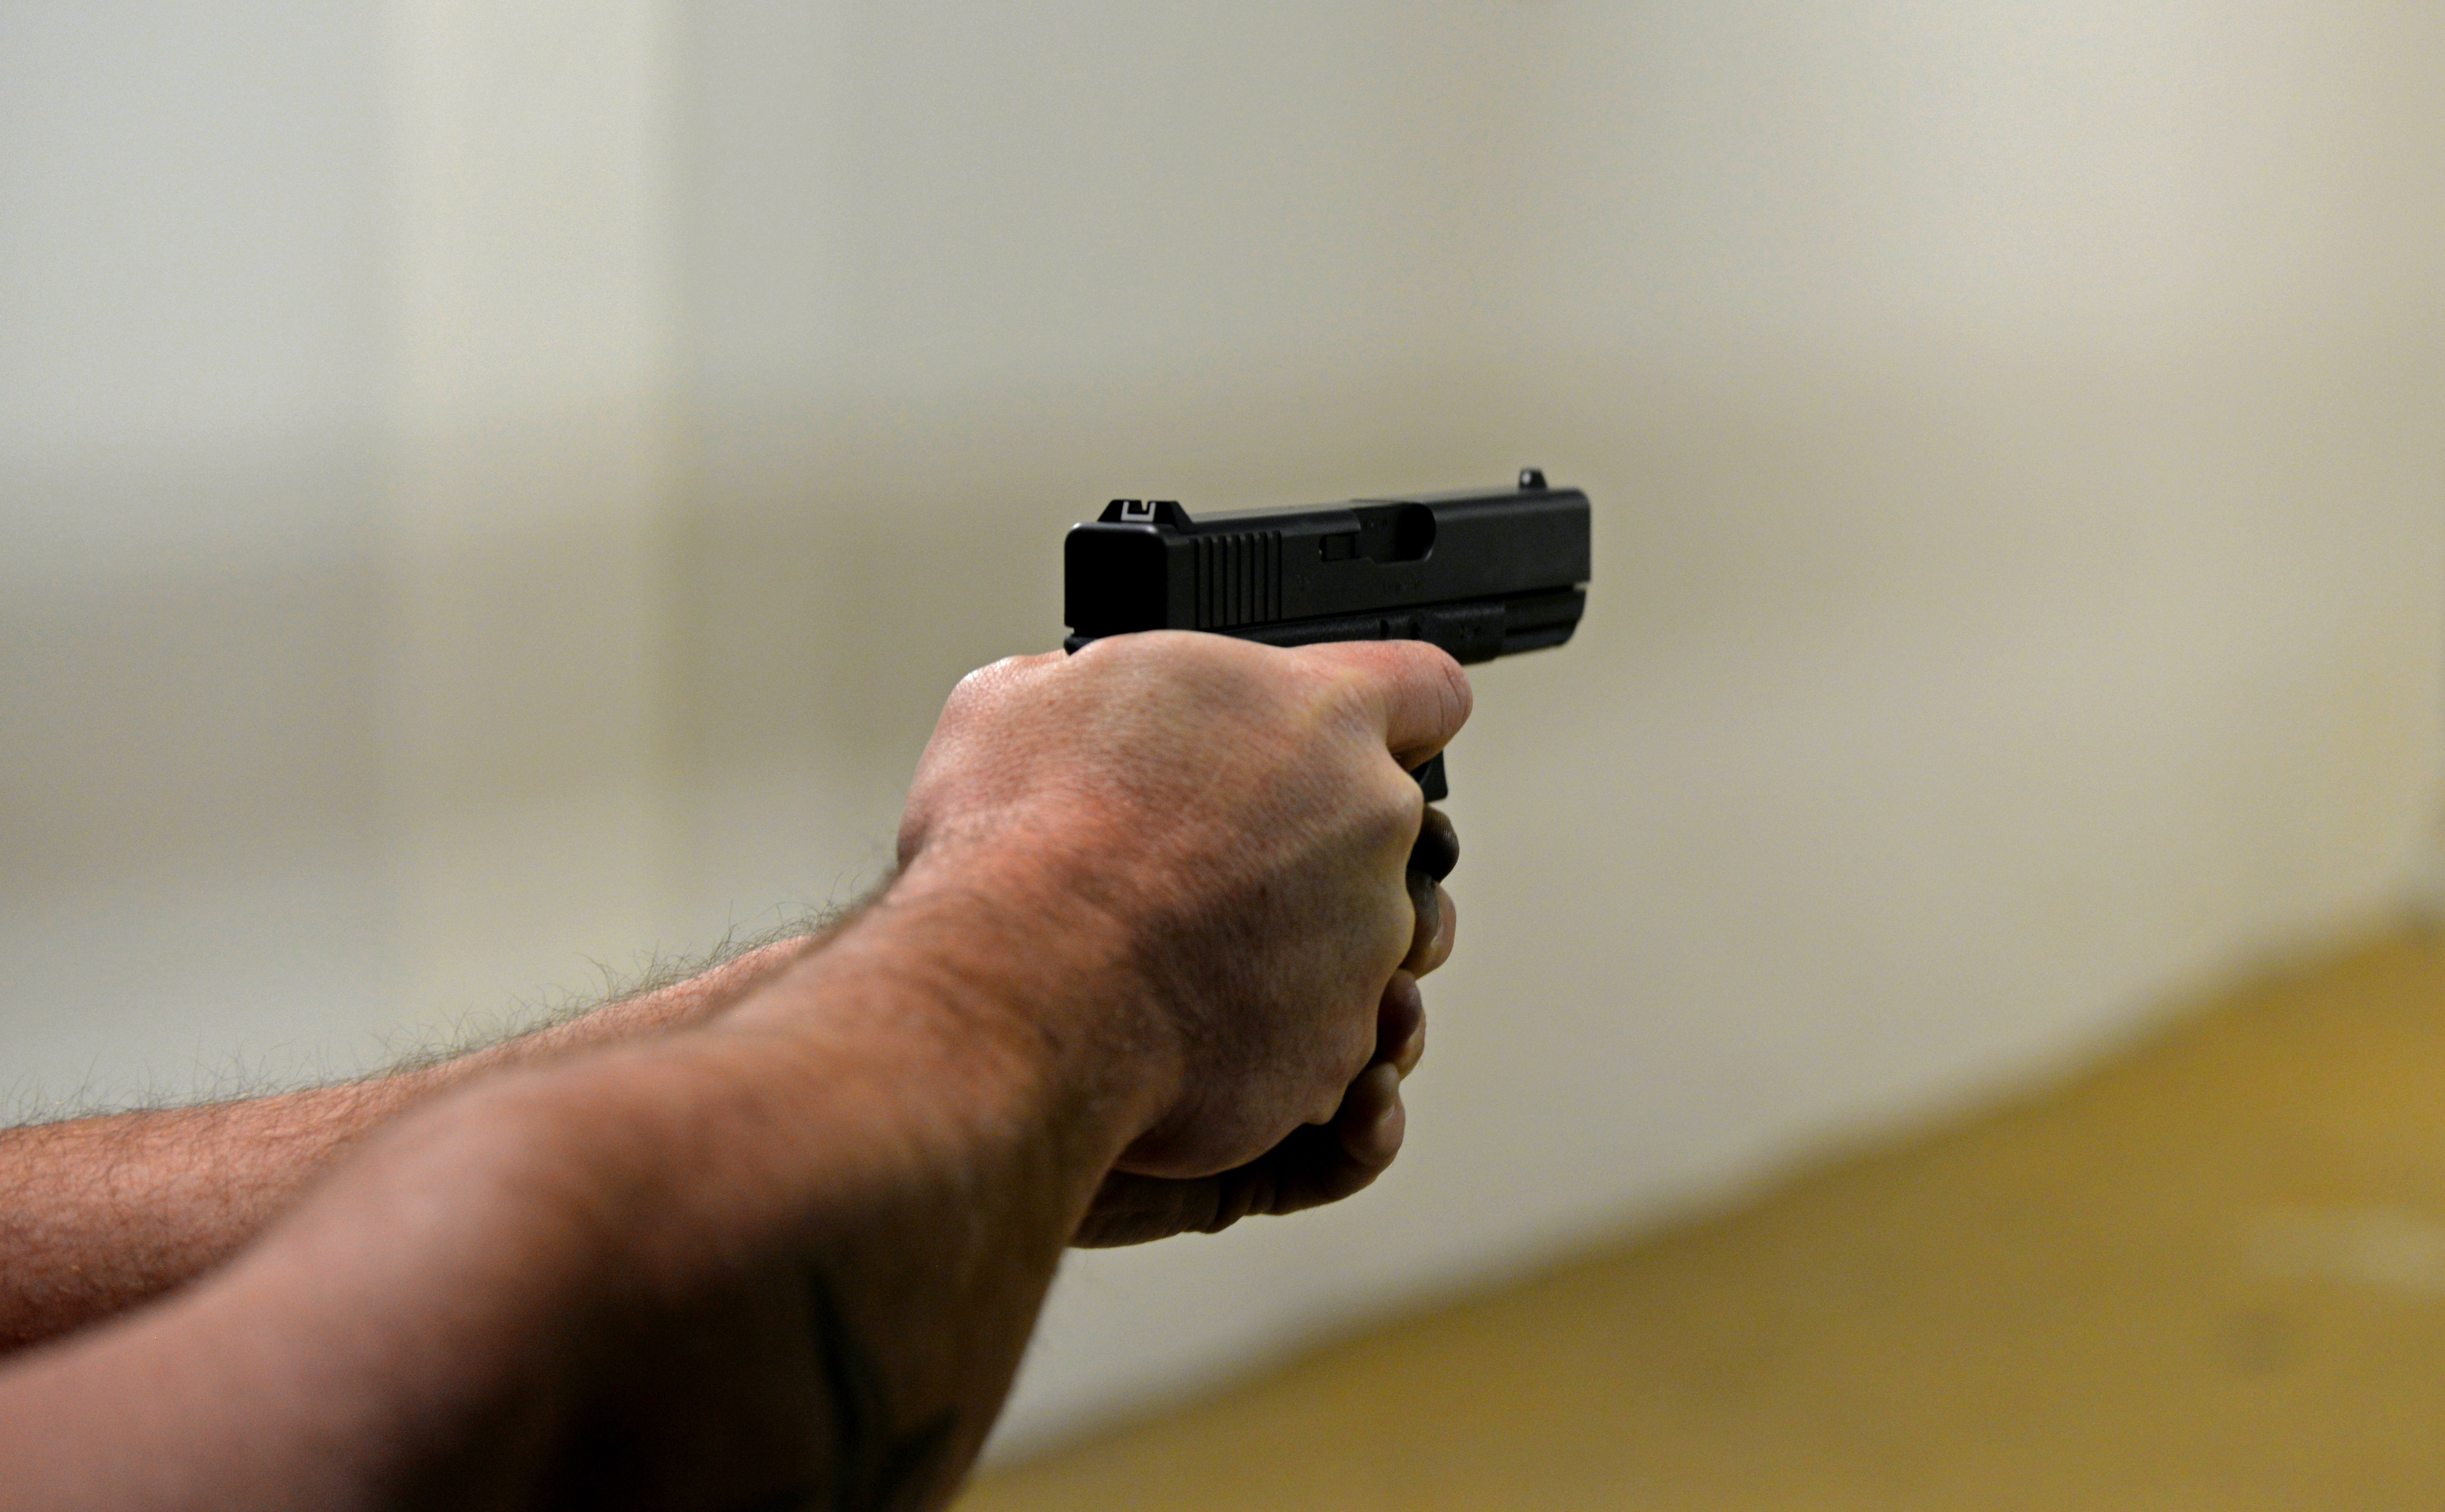gun: (1022, 459, 1670, 911)
